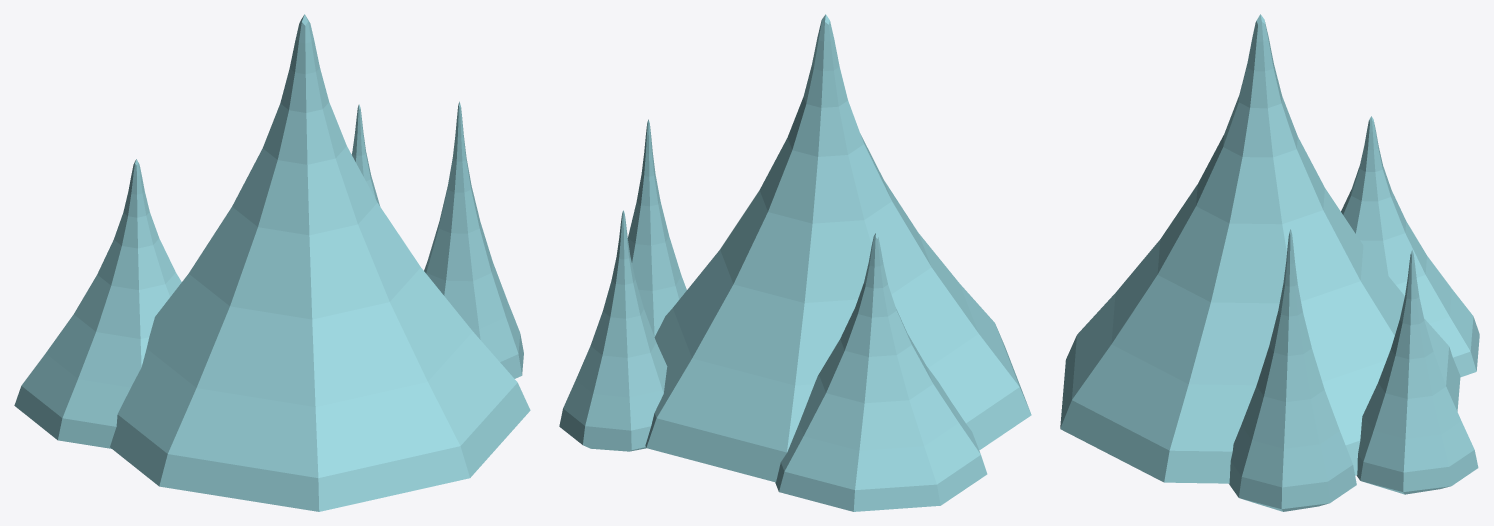
Rendered from ice_var_2.fbx.
3 views of the same model, side by side, from view 1: azimuth 30°, elevation 25°; view 2: azimuth 150°, elevation 25°; view 3: azimuth 270°, elevation 25° (orthographic). The views are drawn at different scales.
Visible parts, largest first — view 1: Cube; view 2: Cube; view 3: Cube.
Part boxes in pixels (x1,y1,x2,y2): Cube: (14, 14, 530, 511); Cube: (559, 14, 1031, 511); Cube: (1060, 14, 1479, 511).
Bounding box in the file's own units: 213 × 194 × 184.
